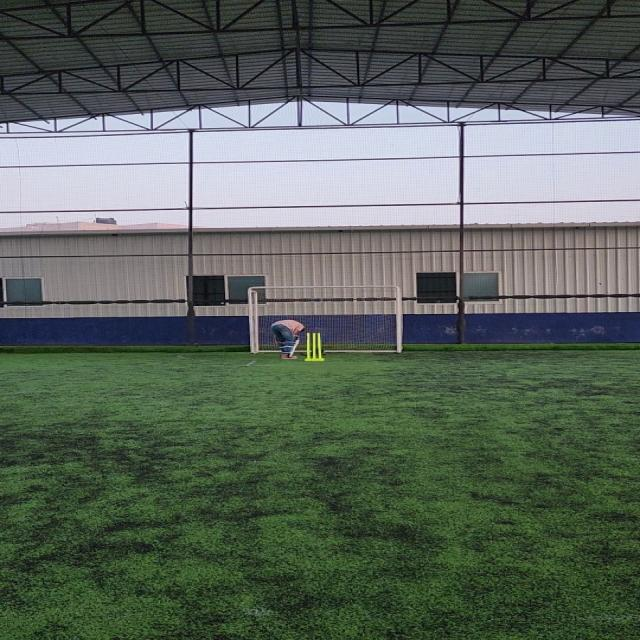stump: (302, 332, 324, 361)
